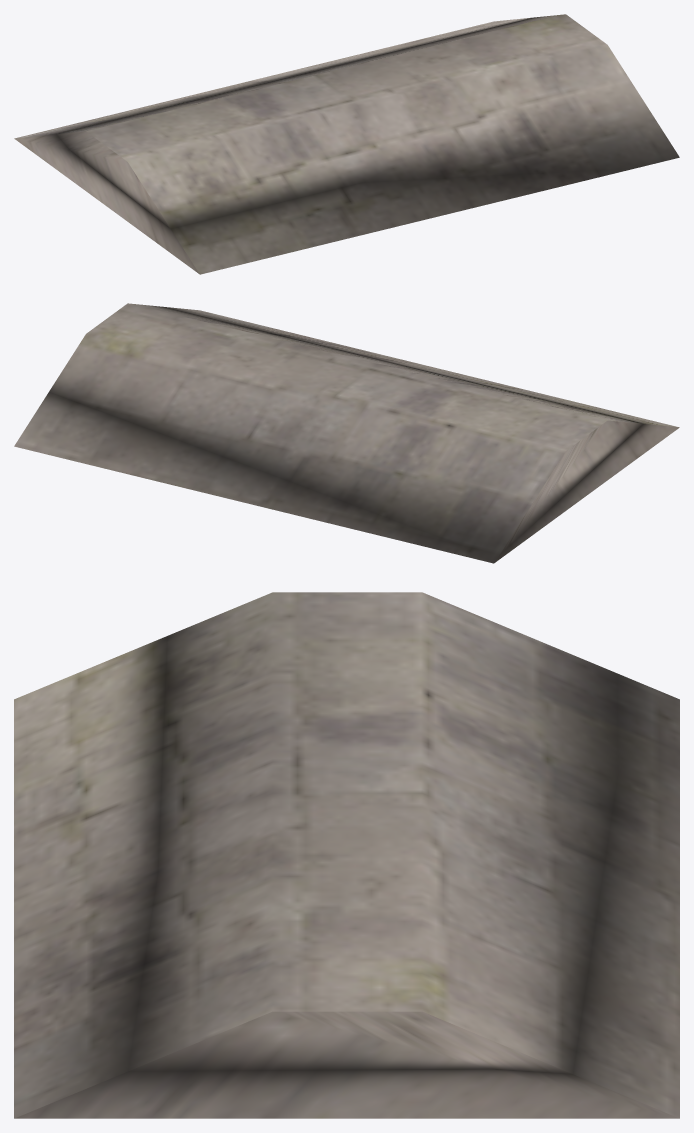
Rendered from entry_ramp.glb.
The picture shows the model from 3 angles, top to bottom: view 1: azimuth 30°, elevation 25°; view 2: azimuth 150°, elevation 25°; view 3: azimuth 270°, elevation 25°; orthographic projection. The views are drawn at different scales.
Visible parts, largest first — view 1: entry_ramp; view 2: entry_ramp; view 3: entry_ramp.
Boxes of the visible parts, x1,y1,x2,y2 form: entry_ramp: (14, 14, 679, 274); entry_ramp: (14, 303, 679, 563); entry_ramp: (14, 592, 679, 1118).
Bounding box in the file's own units: 4 × 0.4769 × 2.69.
Materials: 1 (1 with a texture image).
